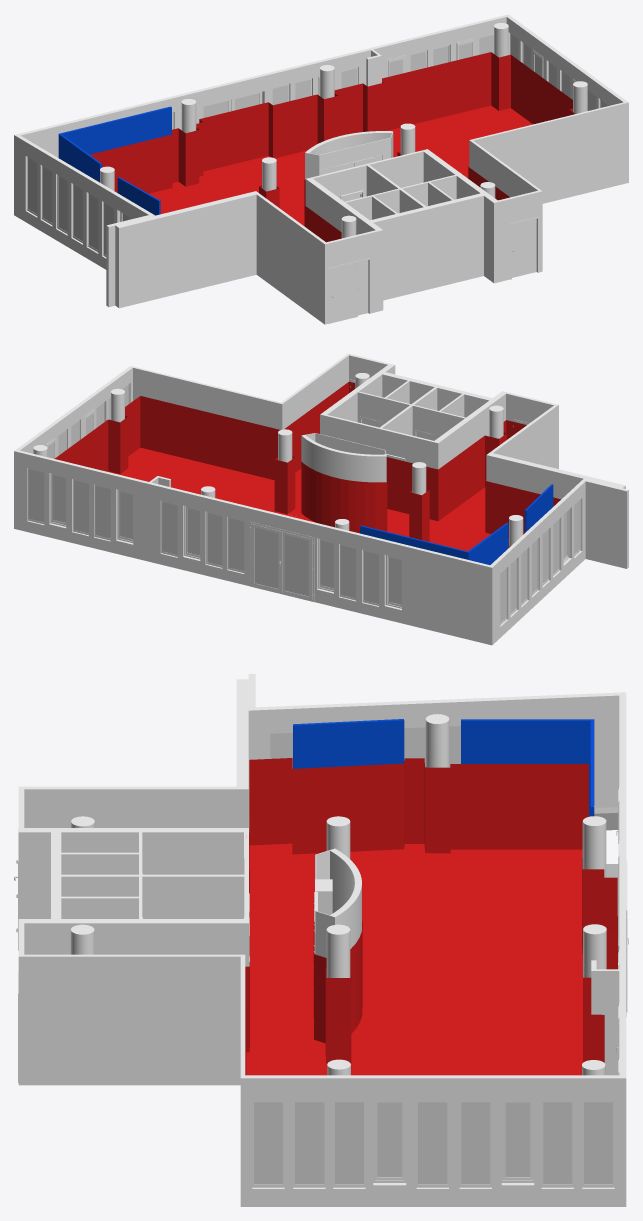
Rendered from DCL_collisions3.glb.
3 renders of one model, top to bottom at view 1: azimuth 30°, elevation 25°; view 2: azimuth 150°, elevation 25°; view 3: azimuth 270°, elevation 25°, orthographic. The views are drawn at different scales.
Parts seen in each view (by area): view 1: DCL_PROXY, wall_16_94.001, wall_4_23.001, wall_20_119.001, wall_2_11.001, wall_15_88.001, wall_6_35.001, wall_32_191.001, wall_right_outer, wall_17_101.001, wall_18_106.001, wall_21_125.001 (+25 smaller); view 2: DCL_PROXY, wall_2_10.001, wall_6_35.001, wall_4_23.001, wall_1_5.001, wall_17_100.001, wall_right_outer, wall_10_58.001, wall_16_94.001, wall_15_88.001, wall_5_29.001, wall_19_113.001 (+33 smaller); view 3: DCL_PROXY, wall_5_28.001, wall_right_outer, wall_6_34.001, wall_19_112.001, wall_15_89.001, wall_18_106.001, wall_27_160.001, wall_33_197.001, wall_35_209.001, wall_front_outer, sweethome3d_window_pane_415 (+23 smaller).
Boxes of the visible parts, x1,y1,x2,y2 form: DCL_PROXY: [90, 52, 574, 242]; wall_16_94.001: [115, 194, 256, 308]; wall_4_23.001: [473, 102, 628, 203]; wall_20_119.001: [373, 196, 483, 300]; wall_2_11.001: [21, 17, 506, 157]; wall_15_88.001: [256, 195, 326, 324]; wall_6_35.001: [14, 135, 148, 269]; wall_32_191.001: [62, 107, 171, 154]; wall_right_outer: [506, 14, 628, 108]; wall_17_101.001: [313, 151, 423, 198]; wall_18_106.001: [423, 152, 499, 283]; wall_21_125.001: [326, 231, 379, 324]; DCL_PROXY: [54, 381, 560, 551]; wall_2_10.001: [14, 451, 492, 645]; wall_6_35.001: [492, 481, 585, 644]; wall_4_23.001: [133, 368, 282, 429]; wall_1_5.001: [585, 481, 628, 568]; wall_17_100.001: [320, 414, 438, 469]; wall_right_outer: [14, 366, 132, 457]; wall_10_58.001: [301, 435, 386, 482]; wall_16_94.001: [486, 455, 625, 499]; wall_15_88.001: [493, 405, 558, 468]; wall_5_29.001: [282, 355, 348, 429]; wall_19_113.001: [438, 394, 505, 468]; DCL_PROXY: [245, 758, 617, 1075]; wall_5_28.001: [18, 956, 240, 1085]; wall_right_outer: [240, 1075, 626, 1206]; wall_6_34.001: [248, 695, 619, 821]; wall_19_112.001: [18, 832, 243, 918]; wall_15_89.001: [24, 789, 248, 827]; wall_18_106.001: [24, 923, 248, 966]; wall_27_160.001: [61, 876, 244, 918]; wall_33_197.001: [461, 720, 590, 816]; wall_35_209.001: [293, 720, 404, 768]; wall_front_outer: [619, 692, 626, 1077]; sweethome3d_window_pane_415: [543, 1102, 572, 1184].
Size of the model in its own units: 20.25 by 3 by 13.01.
